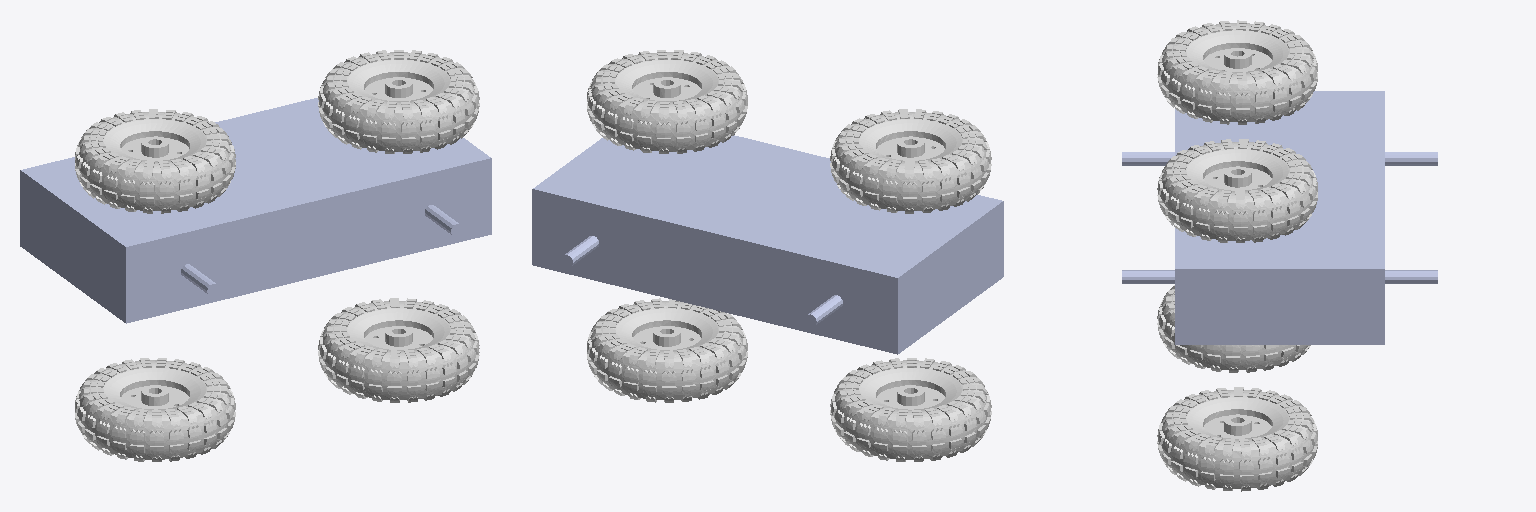
The robot description file, URDF, robot "pipe_inspection_robot":
<?xml version="1.0" encoding="utf-8"?>
<!-- This URDF was automatically created by SolidWorks to URDF Exporter! Originally created by [author] ([email redacted]) 
     Commit Version: 1.6.0-4-g7f85cfe  Build Version: 1.6.7995.38578
     For more information, please see http://wiki.ros.org/sw_urdf_exporter -->
<robot
  name="pipe_inspection_robot">
  <link
    name="base_link">
    <inertial>
      <origin
        xyz="-5.69948280253396E-17 0.06 -3.19723412409139E-17"
        rpy="0 0 0" />
      <mass
        value="21.6942477796077" />
      <inertia
        ixx="0.191279933343014"
        ixy="-2.98049293693505E-18"
        ixz="-7.43271411215649E-17"
        iyy="0.817129844527322"
        iyz="-3.17457917022308E-35"
        izz="0.677694623573289" />
    </inertial>
    <visual>
      <origin
        xyz="0 0 0"
        rpy="0 0 0" />
      <geometry>
        <mesh
          filename="package://pipe_inspection_robot/meshes/base_link.STL" />
      </geometry>
      <material
        name="">
        <color
          rgba="0.792156862745098 0.819607843137255 0.933333333333333 1" />
      </material>
    </visual>
    <collision>
      <origin
        xyz="0 0 0"
        rpy="0 0 0" />
      <geometry>
        <mesh
          filename="package://pipe_inspection_robot/meshes/base_link.STL" />
      </geometry>
    </collision>
  </link>
  <link
    name="front_left_wheel">
    <inertial>
      <origin
        xyz="0.2 0.195 0.06"
        rpy="0 0 0" />
      <mass
        value="2.1167" />
      <inertia
        ixx="0.0076561"
        ixy="-1.1994E-15"
        ixz="-1.0877E-13"
        iyy="0.014045"
        iyz="2.0482E-15"
        izz="0.0076561" />
    </inertial>
    <visual>
      <origin
        xyz="0 0 0"
        rpy="1.5708 0 0" />
      <geometry>
        <mesh
          filename="package://pipe_inspection_robot/meshes/front_left_wheel.STL" />
      </geometry>
      <material
        name="">
        <color
          rgba="0.89804 0.89804 0.89804 1" />
      </material>
    </visual>
    <collision>
      <origin
        xyz="0 0 0"
        rpy="0 0 0" />
      <geometry>
        <mesh
          filename="package://pipe_inspection_robot/meshes/front_left_wheel.STL" />
      </geometry>
    </collision>
  </link>
  <joint
    name="front_left_joint"
    type="continuous">
    <origin
      xyz="0 0 0"
      rpy="0 0 0" />
    <parent
      link="base_link" />
    <child
      link="front_left_wheel" />
    <axis
      xyz="0 1 0" />
    <limit
      effort="1000"
      velocity="1000" />
    <dynamics
      damping="1"
      friction="1" />
  </joint>
  <link
    name="front_right_wheel">
    <inertial>
      <origin
        xyz="0.2 -0.195 0.06"
        rpy="0 0 0" />
      <mass
        value="2.1167" />
      <inertia
        ixx="0.0076561"
        ixy="-1.5989E-15"
        ixz="1.4912E-13"
        iyy="0.014045"
        iyz="-1.523E-15"
        izz="0.0076561" />
    </inertial>
    <visual>
      <origin
        xyz="0 0 0"
        rpy="1.5708 0 0" />
      <geometry>
        <mesh
          filename="package://pipe_inspection_robot/meshes/front_right_wheel.STL" />
      </geometry>
      <material
        name="">
        <color
          rgba="0.89804 0.89804 0.89804 1" />
      </material>
    </visual>
    <collision>
      <origin
        xyz="0 0 0"
        rpy="0 0 0" />
      <geometry>
        <mesh
          filename="package://pipe_inspection_robot/meshes/front_right_wheel.STL" />
      </geometry>
    </collision>
  </link>
  <joint
    name="front_right_joint"
    type="continuous">
    <origin
      xyz="0 0 0"
      rpy="0 0 0" />
    <parent
      link="base_link" />
    <child
      link="front_right_wheel" />
    <axis
      xyz="0 -1 0" />
    <limit
      effort="1000"
      velocity="1000" />
    <dynamics
      damping="1"
      friction="1" />
  </joint>
  <link
    name="rear_left_wheel">
    <inertial>
      <origin
        xyz="-0.2 0.195 0.06"
        rpy="0 0 0" />
      <mass
        value="2.1167" />
      <inertia
        ixx="0.0076561"
        ixy="-1.8473E-15"
        ixz="-1.4469E-13"
        iyy="0.014045"
        iyz="1.9759E-15"
        izz="0.0076561" />
    </inertial>
    <visual>
      <origin
        xyz="0 0 0"
        rpy="1.5708 0 0" />
      <geometry>
        <mesh
          filename="package://pipe_inspection_robot/meshes/rear_left_wheel.STL" />
      </geometry>
      <material
        name="">
        <color
          rgba="0.89804 0.89804 0.89804 1" />
      </material>
    </visual>
    <collision>
      <origin
        xyz="0 0 0"
        rpy="0 0 0" />
      <geometry>
        <mesh
          filename="package://pipe_inspection_robot/meshes/rear_left_wheel.STL" />
      </geometry>
    </collision>
  </link>
  <joint
    name="rear_left_joint"
    type="continuous">
    <origin
      xyz="0 0 0"
      rpy="0 0 0" />
    <parent
      link="base_link" />
    <child
      link="rear_left_wheel" />
    <axis
      xyz="0 1 0" />
    <limit
      effort="1000"
      velocity="1000" />
    <dynamics
      damping="1"
      friction="1" />
  </joint>
  <link
    name="rear_right_wheel">
    <inertial>
      <origin
        xyz="-0.2 -0.195 0.06"
        rpy="0 0 0" />
      <mass
        value="2.1167" />
      <inertia
        ixx="0.0076561"
        ixy="2.1626E-15"
        ixz="-1.3835E-13"
        iyy="0.014045"
        iyz="-1.9156E-15"
        izz="0.0076561" />
    </inertial>
    <visual>
      <origin
        xyz="0 0 0"
        rpy="1.5708 0 0" />
      <geometry>
        <mesh
          filename="package://pipe_inspection_robot/meshes/rear_right_wheel.STL" />
      </geometry>
      <material
        name="">
        <color
          rgba="0.89804 0.89804 0.89804 1" />
      </material>
    </visual>
    <collision>
      <origin
        xyz="0 0 0"
        rpy="0 0 0" />
      <geometry>
        <mesh
          filename="package://pipe_inspection_robot/meshes/rear_right_wheel.STL" />
      </geometry>
    </collision>
  </link>
  <joint
    name="rear_right_joint"
    type="continuous">
    <origin
      xyz="0 0 0"
      rpy="0 0 0" />
    <parent
      link="base_link" />
    <child
      link="rear_right_wheel" />
    <axis
      xyz="0 -1 0" />
    <limit
      effort="1000"
      velocity="1000" />
    <dynamics
      damping="1"
      friction="1" />
  </joint>
</robot>

--- Render facts (derived) ---
3 views of the same robot in one strip: view 1: azimuth 30°, elevation 25°; view 2: azimuth 150°, elevation 25°; view 3: azimuth 270°, elevation 25° (orthographic).
Model pipe_inspection_robot with 5 links and 4 joints (4 continuous), rooted at base_link, posed every joint at zero.
Links seen in each view (by area): view 1: base_link, front_right_wheel, front_left_wheel, rear_right_wheel, rear_left_wheel; view 2: base_link, rear_left_wheel, rear_right_wheel, front_left_wheel, front_right_wheel; view 3: base_link, front_left_wheel, rear_left_wheel, front_right_wheel, rear_right_wheel.
Link boxes in pixels (x1=…): base_link: x1=20, y1=98, x2=491, y2=323; front_right_wheel: x1=318, y1=298, x2=479, y2=402; front_left_wheel: x1=318, y1=50, x2=479, y2=153; rear_right_wheel: x1=75, y1=358, x2=235, y2=461; rear_left_wheel: x1=75, y1=109, x2=235, y2=213; base_link: x1=532, y1=135, x2=1003, y2=354; rear_left_wheel: x1=830, y1=109, x2=991, y2=213; rear_right_wheel: x1=830, y1=358, x2=991, y2=461; front_left_wheel: x1=587, y1=50, x2=747, y2=153; front_right_wheel: x1=587, y1=298, x2=747, y2=402; base_link: x1=1122, y1=91, x2=1437, y2=344; front_left_wheel: x1=1157, y1=139, x2=1317, y2=242; rear_left_wheel: x1=1157, y1=20, x2=1317, y2=124; front_right_wheel: x1=1157, y1=387, x2=1317, y2=491; rear_right_wheel: x1=1157, y1=285, x2=1310, y2=372.
Size in the robot's own frame: 0.6295 by 0.45 by 0.459 metres.
5 mesh visuals loaded from 5 distinct referenced files (5 binary STL).